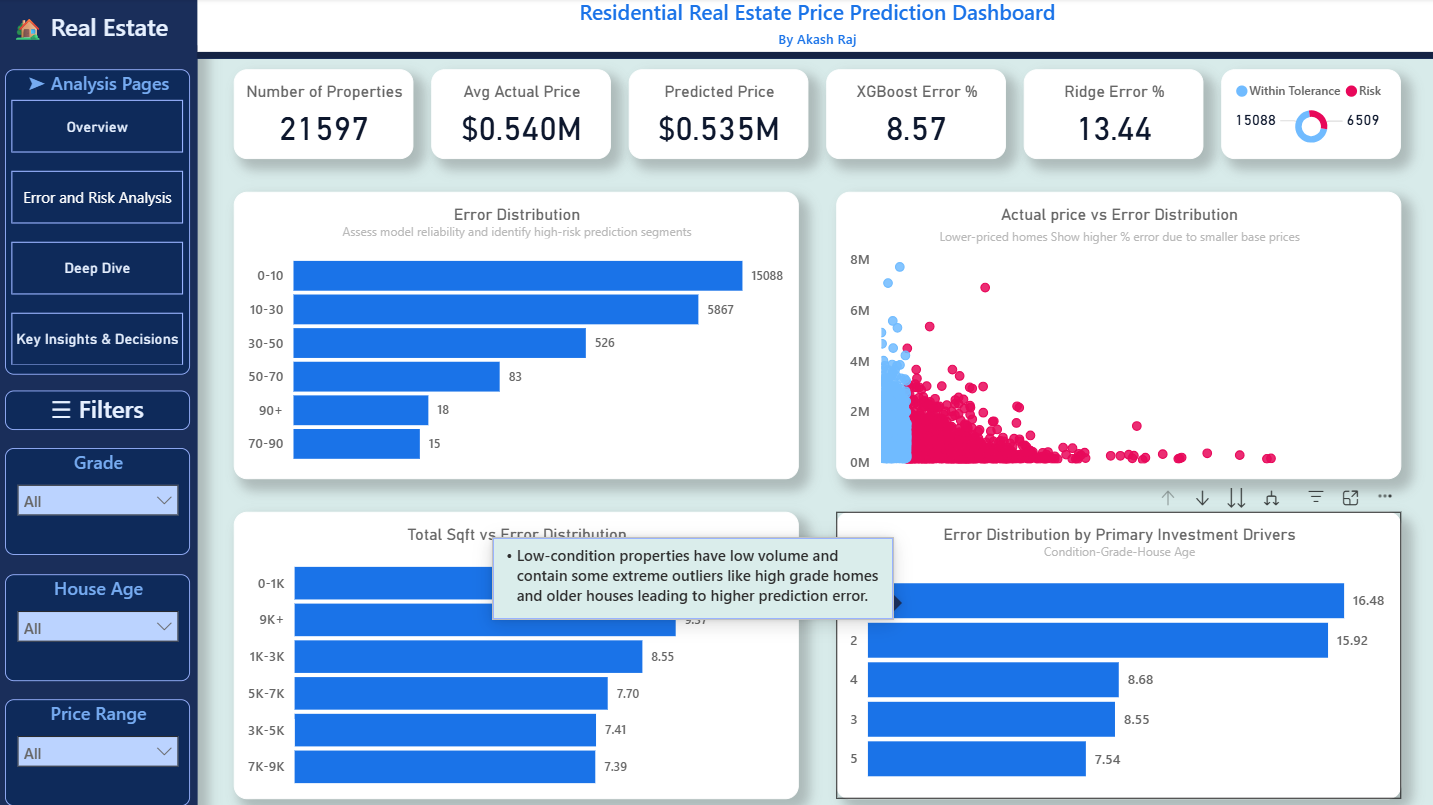

The page's visual inventory and layout, read from the dashboard file:
{"tool":"tableau","page":{"name":"Error Analysis & Model Risk","canvas":[1000,1000],"units":"permille","ordinal":0},"visuals":[{"type":"worksheet","title":"Back 2","mark":"Automatic","box":[0,0,1000,1000]},{"type":"text","box":[47.4,27.8,902.3,47.2]},{"type":"dashboard-object","box":[54.1,33.3,111.3,38.9]},{"type":"filter","title":"Error % vs Price","param":"[federated.0pb6tqq0hun84y1cwjt1z028dbxy].[none:actual_price:qk]","box":[674.4,175,91,98.6]},{"type":"filter","title":"KPI Tiles","param":"[federated.0pb6tqq0hun84y1cwjt1z028dbxy].[none:grade:qk]","box":[766.9,175,91,98.6]},{"type":"filter","title":"KPI Tiles","param":"[federated.0pb6tqq0hun84y1cwjt1z028dbxy].[none:house_age:qk]","box":[859.4,175,91,98.6]},{"type":"worksheet","title":"KPI Tiles","mark":"Automatic","box":[49.6,176.4,581.2,98.6]},{"type":"blank","box":[166.9,176.4,2.3,97.2]},{"type":"blank","box":[281.9,176.4,2.3,97.2]},{"type":"blank","box":[397,176.4,2.3,97.2]},{"type":"blank","box":[512,176.4,2.3,97.2]},{"type":"worksheet","title":"Ridge Error % Distribution","mark":"Automatic","rows":["Calculation_0602830477926402"],"cols":["id"],"box":[674.4,373.6,272.9,244.4]},{"type":"worksheet","title":"Ridge Coefficient Effect","mark":"Automatic","box":[47.4,376.4,130.8,526.4]},{"type":"worksheet","title":"Price Map","mark":"Multipolygon","rows":["lat"],"cols":["long"],"box":[218.8,376.4,206.8,526.4]},{"type":"worksheet","title":"Error % vs Price","mark":"Automatic","rows":["xgb_error_pct"],"cols":["actual_price"],"box":[427.8,376.4,206.8,526.4]},{"type":"legend","title":"Error % vs Price","param":"[federated.0pb6tqq0hun84y1cwjt1z028dbxy].[none:Calculation_0458520059084800:nk]","box":[518.8,387.5,111.3,69.4]},{"type":"worksheet","title":"XGBoost Error % Distribution","mark":"Bar","rows":["Calculation_0602830478553091"],"cols":["id"],"box":[674.4,665.3,272.9,244.4]},{"type":"legend","title":"Price Map","param":"[federated.0pb6tqq0hun84y1cwjt1z028dbxy].[none:grade:qk]","box":[317.3,811.1,105.3,86.1]}]}

Visuals, with their boxes on the dashboard's canvas, which has no fixed pixel size, in thousandths of its width and height (x1, y1, x2, y2). These are canvas units, not pixel positions in the 1433x805 screenshot, which may show the page scaled, cropped or inside an application window:
"Back 2" worksheet: x1=0 y1=0 x2=1000 y2=1000
text: x1=47 y1=28 x2=950 y2=75
dashboard-object: x1=54 y1=33 x2=165 y2=72
"Error % vs Price" filter: x1=674 y1=175 x2=765 y2=274
"KPI Tiles" filter: x1=767 y1=175 x2=858 y2=274
"KPI Tiles" filter: x1=859 y1=175 x2=950 y2=274
"KPI Tiles" worksheet: x1=50 y1=176 x2=631 y2=275
blank: x1=167 y1=176 x2=169 y2=274
blank: x1=282 y1=176 x2=284 y2=274
blank: x1=397 y1=176 x2=399 y2=274
blank: x1=512 y1=176 x2=514 y2=274
"Ridge Error % Distribution" worksheet: x1=674 y1=374 x2=947 y2=618
"Ridge Coefficient Effect" worksheet: x1=47 y1=376 x2=178 y2=903
"Price Map" worksheet (Multipolygon marks): x1=219 y1=376 x2=426 y2=903
"Error % vs Price" worksheet: x1=428 y1=376 x2=635 y2=903
"Error % vs Price" legend: x1=519 y1=388 x2=630 y2=457
"XGBoost Error % Distribution" worksheet (Bar marks): x1=674 y1=665 x2=947 y2=910
"Price Map" legend: x1=317 y1=811 x2=423 y2=897
